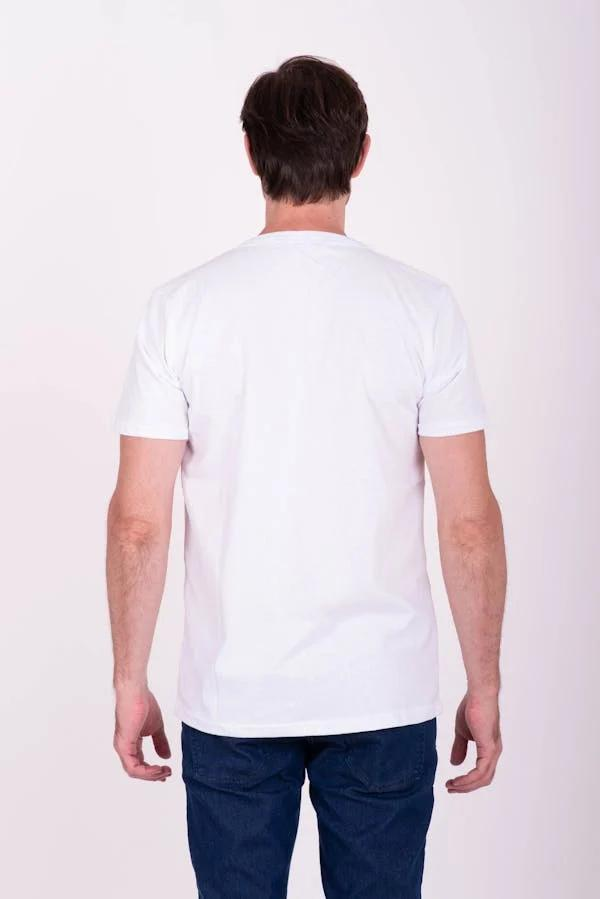Human: (93, 65, 520, 899)
